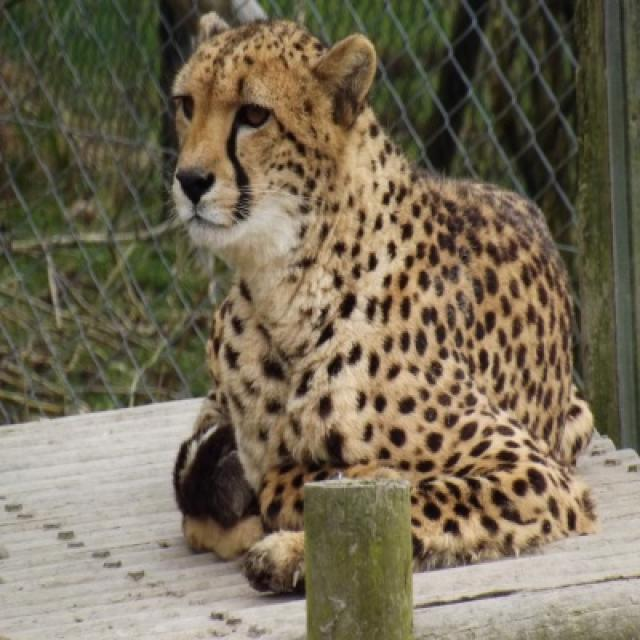Cheetah: (168, 21, 598, 594)
